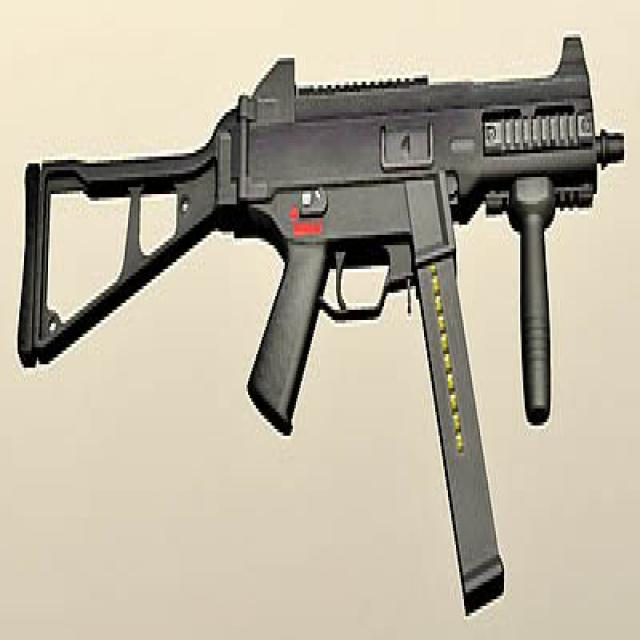gun: (19, 30, 629, 610)
